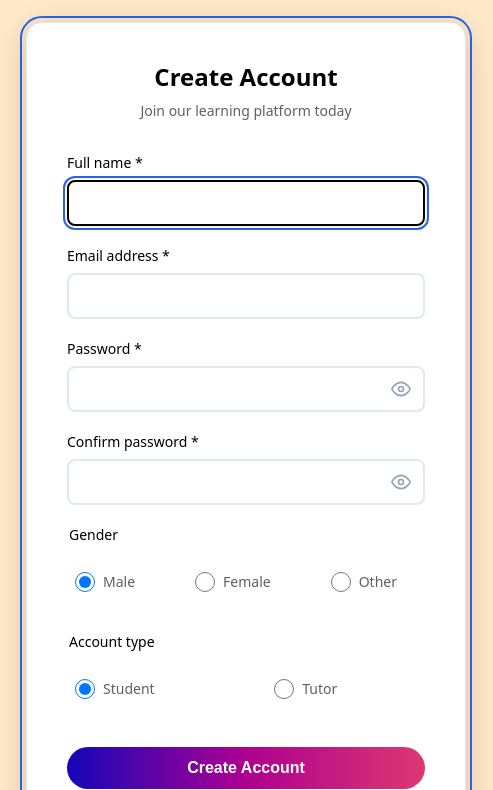
Scenario: SignUp Component › Keyboard Interactions › should reset role to default when Escape key is pressed
Click the radio button labelled "Tutor" at (284, 689), box [274,679,294,699]
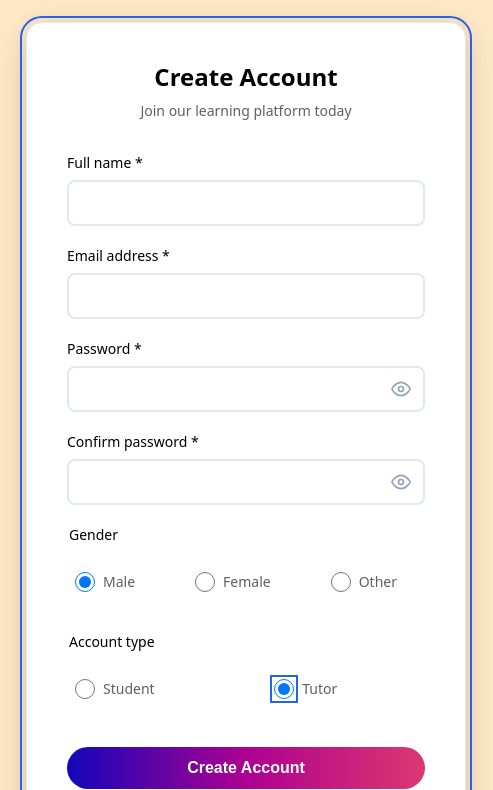
Result: the radio button labelled "Tutor" is checked at [274,679,294,699]
Press Escape
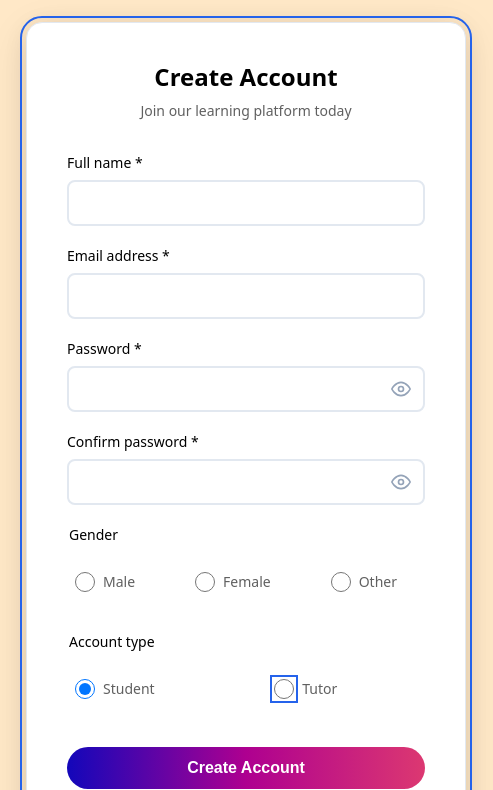
Result: the radio button labelled "Student" is checked at [75,679,95,699]
